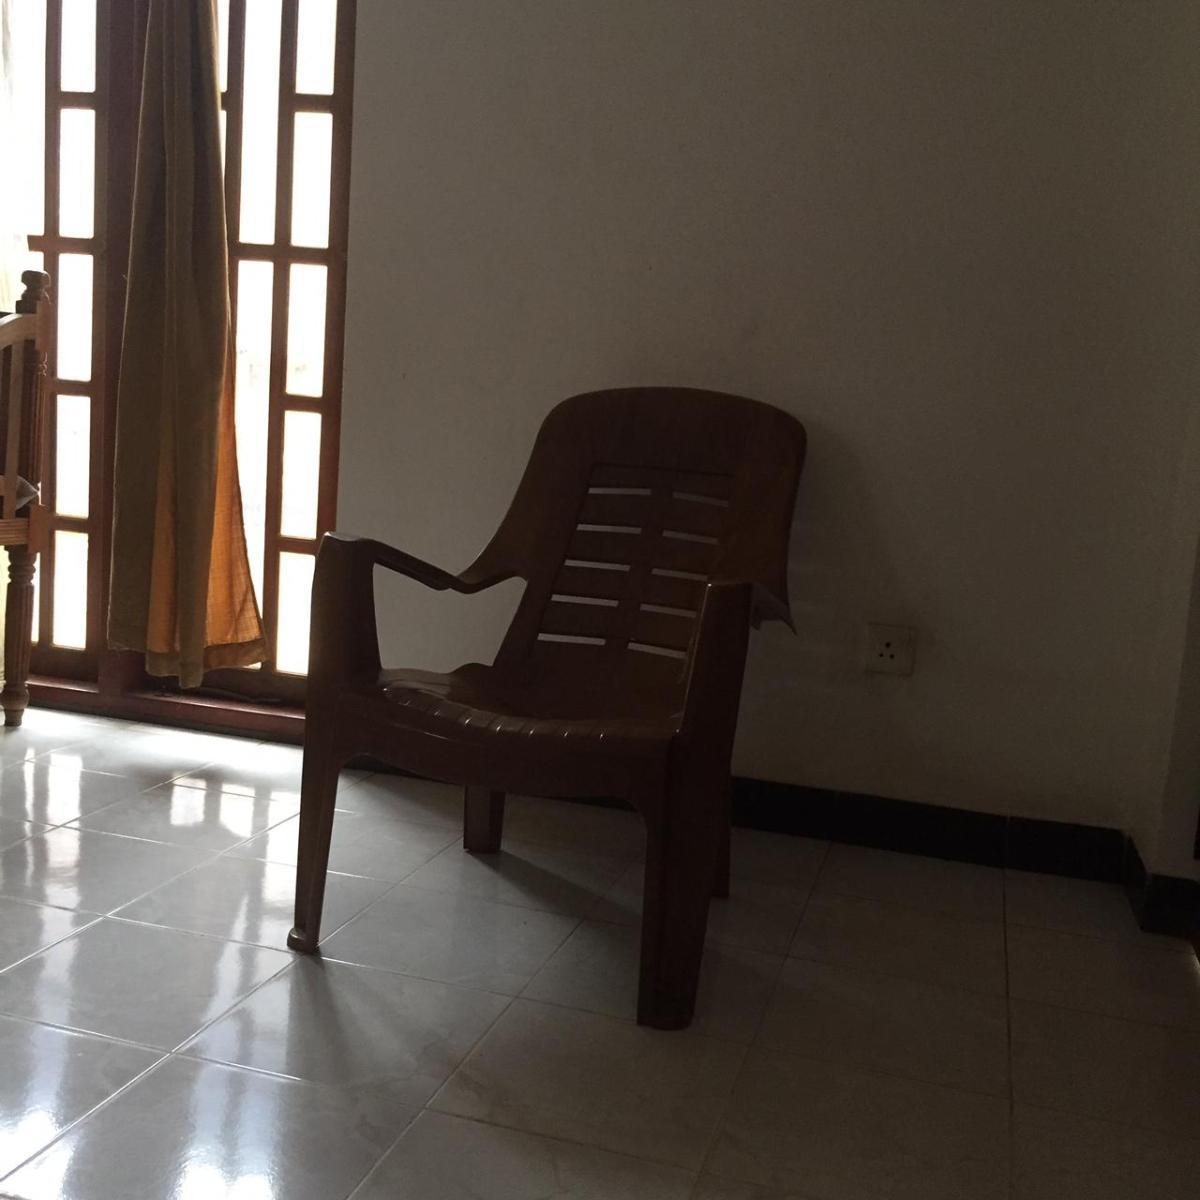Chair: (286, 385, 811, 1033)
